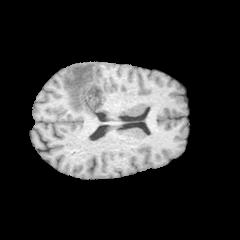glioma: (64, 62, 108, 113)
